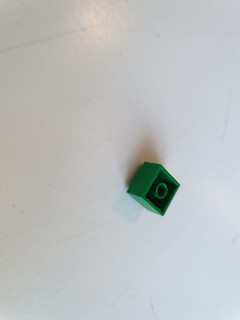2x2 green: (126, 161, 181, 217)
